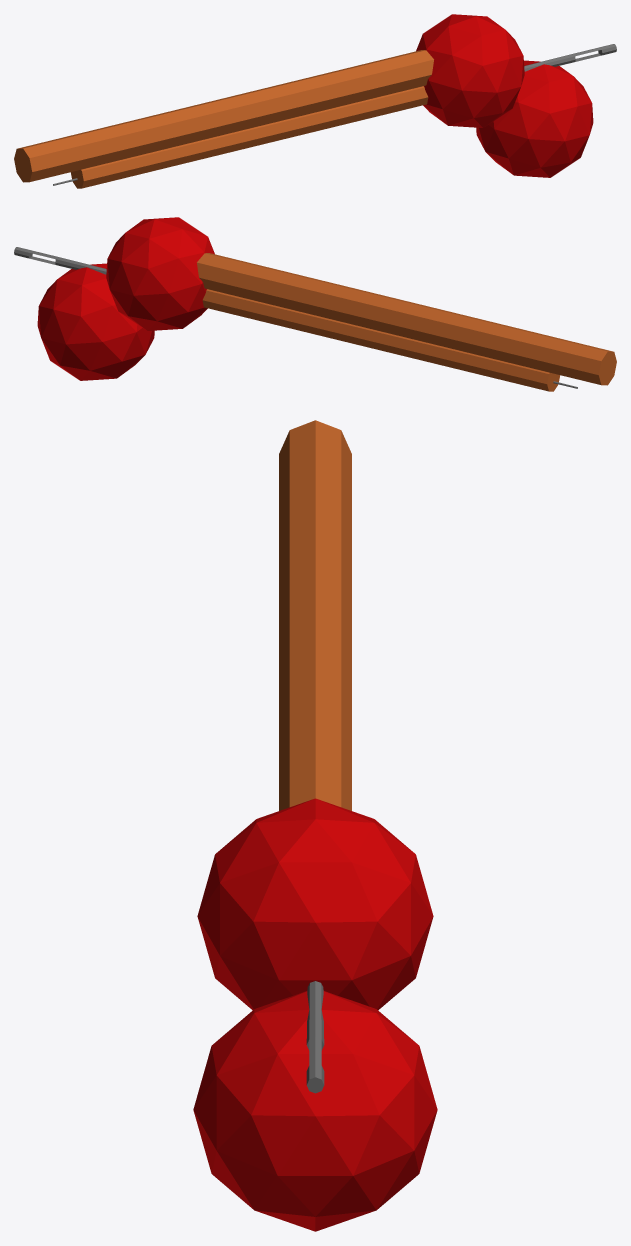
The model's file is YarnGun.fbx.
3 views of the same model, one above another, from view 1: azimuth 30°, elevation 25°; view 2: azimuth 150°, elevation 25°; view 3: azimuth 270°, elevation 25° (orthographic). The views are drawn at different scales.
Visible parts, largest first — view 1: Yarngun; view 2: Yarngun; view 3: Yarngun.
Part boxes in pixels (left/top/right/bottom): Yarngun: left=14, top=14, right=616, bottom=188; Yarngun: left=14, top=217, right=616, bottom=391; Yarngun: left=193, top=420, right=437, bottom=1231.
Size of the model in its own units: 1.73 by 0.4788 by 0.3092.
